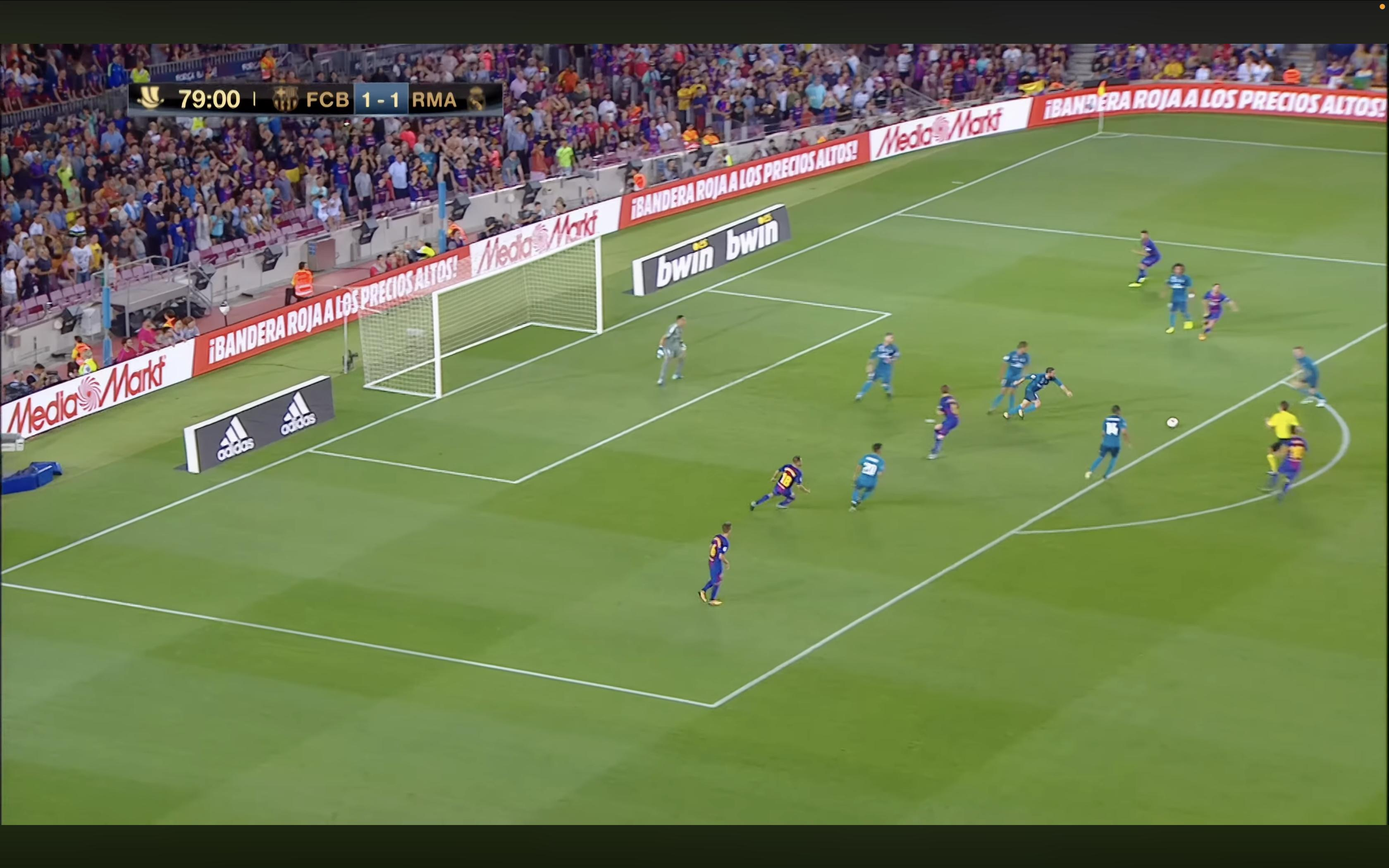ball: (1166, 417, 1179, 428)
goalkeeper: (658, 315, 686, 386)
player: (1003, 367, 1073, 419), (1085, 405, 1131, 479), (750, 455, 808, 510), (987, 342, 1030, 414), (855, 333, 899, 400), (699, 522, 731, 606), (1270, 435, 1307, 500), (850, 443, 885, 511), (928, 385, 959, 460), (1199, 284, 1238, 340), (1292, 346, 1327, 407), (1166, 263, 1193, 332), (1129, 230, 1161, 287)
referee: (1266, 402, 1301, 490)
